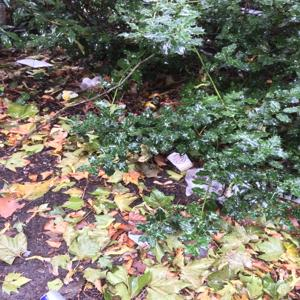paper: (19, 52, 56, 69)
plastic: (173, 167, 254, 213), (166, 147, 204, 176), (75, 75, 110, 91)
